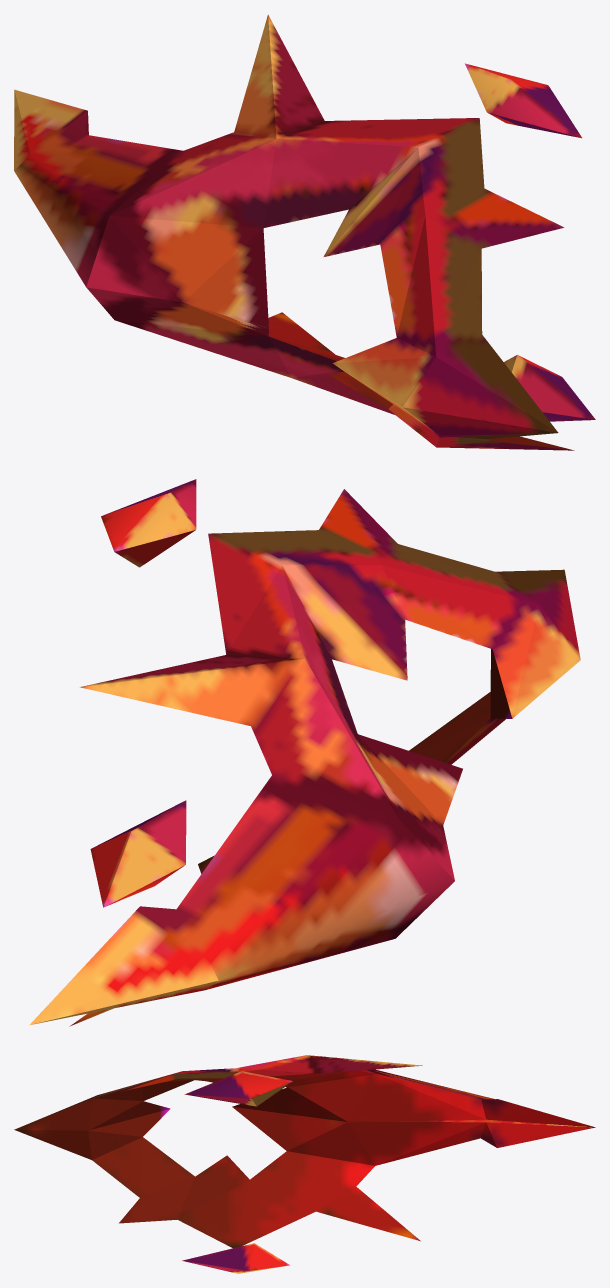
Rendered from 1_Fashi_w_level_05.FBX.
3 views of the same model, one above another, from view 1: azimuth 30°, elevation 25°; view 2: azimuth 150°, elevation 25°; view 3: azimuth 270°, elevation 25° (orthographic). The views are drawn at different scales.
Parts seen in each view (by area): view 1: 1_Fashi_w_level_05; view 2: 1_Fashi_w_level_05; view 3: 1_Fashi_w_level_05.
Boxes of the visible parts, left/top/right/bottom form: 1_Fashi_w_level_05: left=14, top=14, right=595, bottom=450; 1_Fashi_w_level_05: left=30, top=479, right=580, bottom=1026; 1_Fashi_w_level_05: left=14, top=1055, right=595, bottom=1273.
Size of the model in its own units: 40.94 by 34.05 by 90.28.
Materials: 1 (1 with a texture image).
